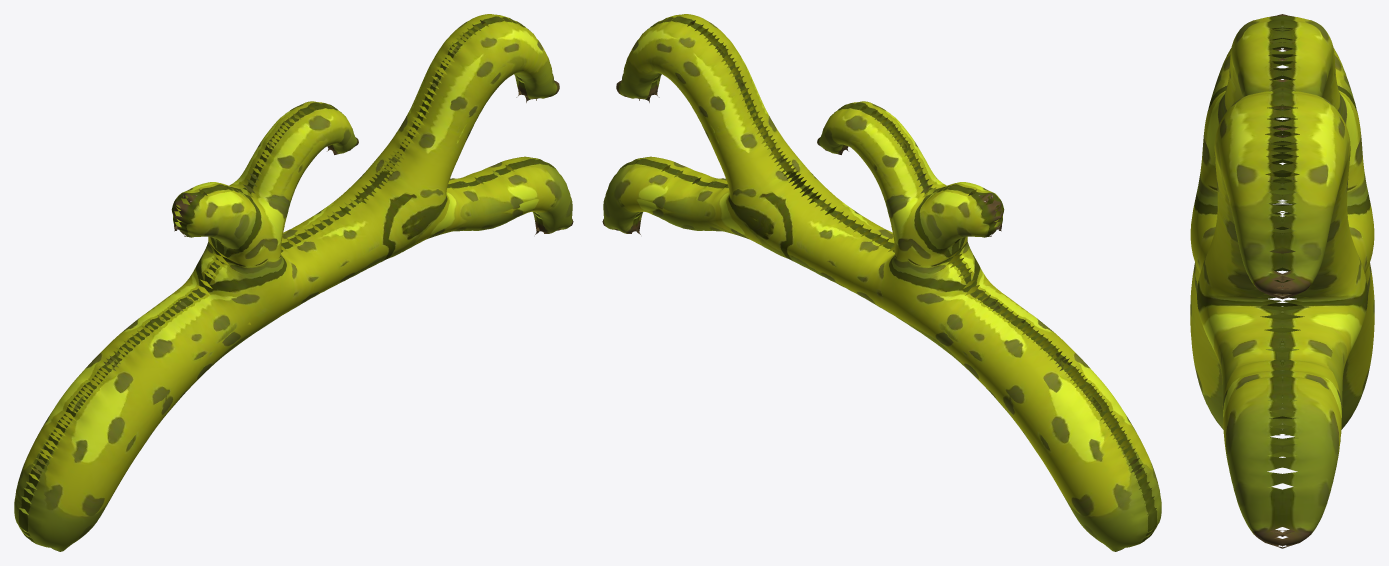
Rendered from curling_runner.glb.
3 renders of one model, left to right at view 1: azimuth 30°, elevation 25°; view 2: azimuth 150°, elevation 25°; view 3: azimuth 270°, elevation 25°, orthographic. The views are drawn at different scales.
Visible parts, largest first — view 1: curling_runner; view 2: curling_runner; view 3: curling_runner.
Part boxes in pixels (left/top/right/bottom): curling_runner: left=14, top=14, right=573, bottom=551; curling_runner: left=602, top=14, right=1161, bottom=551; curling_runner: left=1190, top=14, right=1374, bottom=548.
Size of the model in its own units: 0.9892 by 0.7125 by 0.1649.
Materials: 1 (1 with a texture image).
